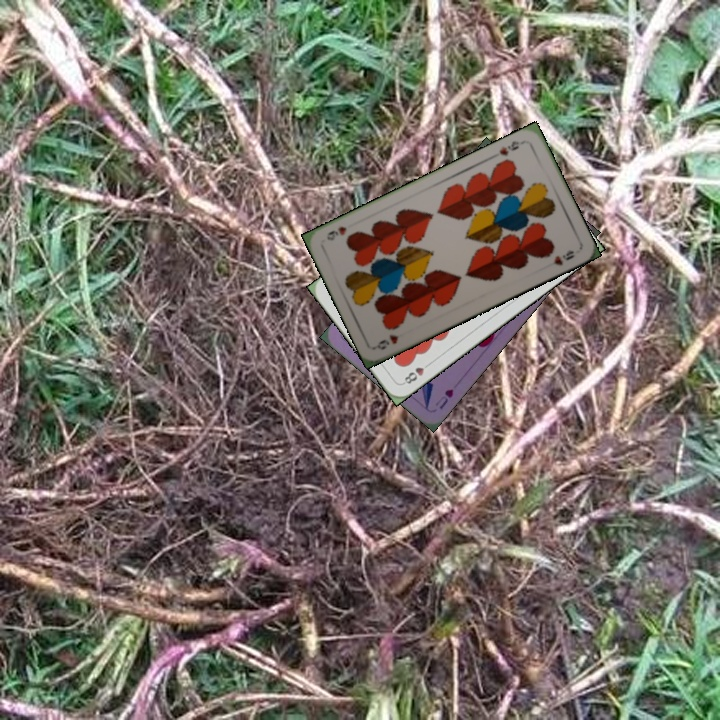H8: (399, 358, 434, 387)
H9: (372, 330, 402, 353), (495, 136, 521, 159)
HU: (431, 384, 456, 412)
